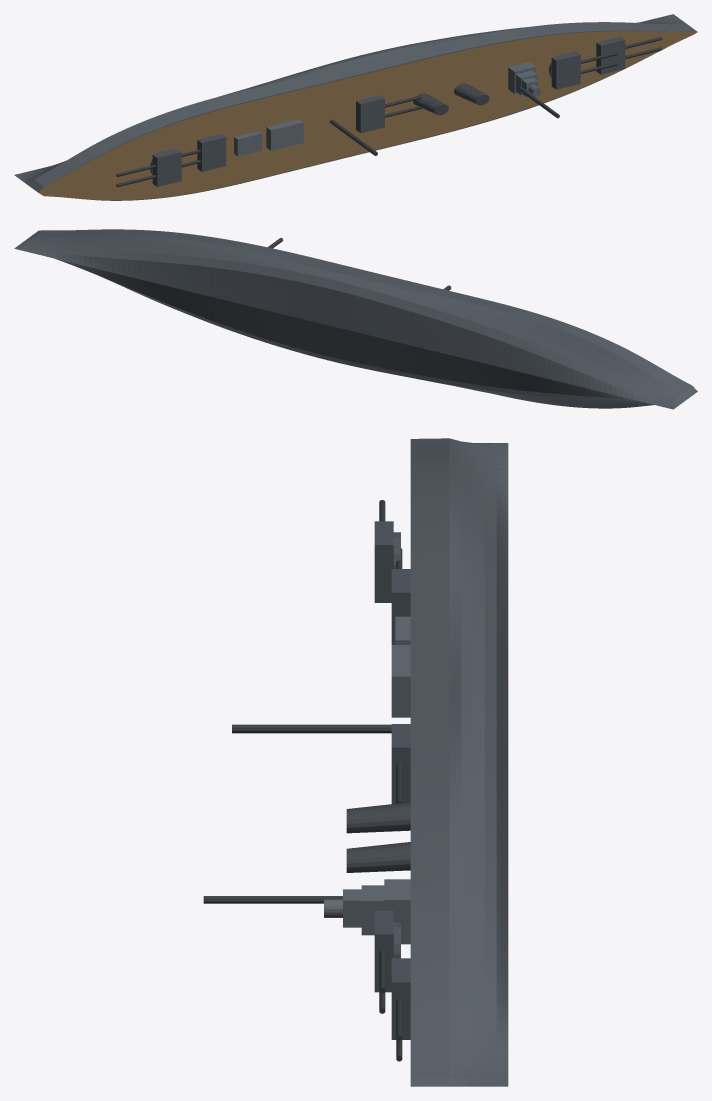
Rendered from amagi_fullship.obj.
The picture shows the model from 3 angles, top to bottom: view 1: azimuth 30°, elevation 25°; view 2: azimuth 150°, elevation 25°; view 3: azimuth 270°, elevation 25°; orthographic projection. The views are drawn at different scales.
Bounding box in the file's own units: 247 × 31.34 × 49.38.
